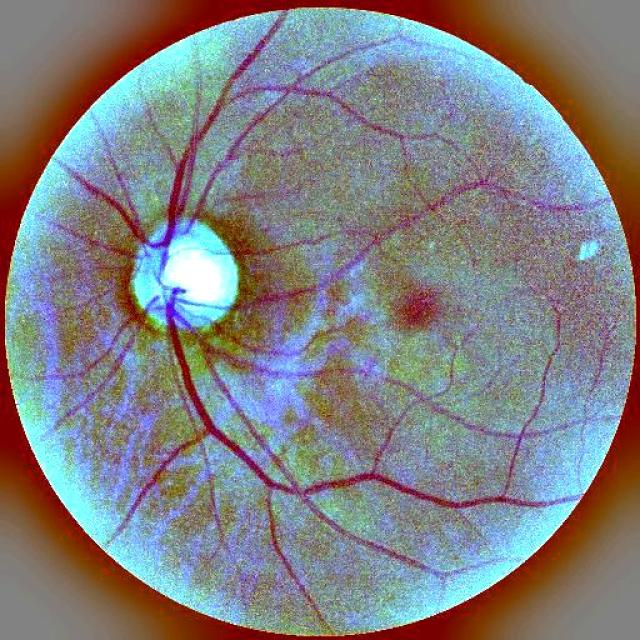Macula: (388, 278, 446, 346)
Nerves: (62, 289, 578, 578), (185, 60, 400, 228), (56, 94, 224, 266), (330, 180, 486, 279), (209, 282, 316, 354), (268, 510, 319, 611), (226, 235, 326, 279), (70, 345, 128, 416), (225, 20, 279, 92), (51, 221, 130, 258)
Optic Disk: (130, 217, 240, 331)
